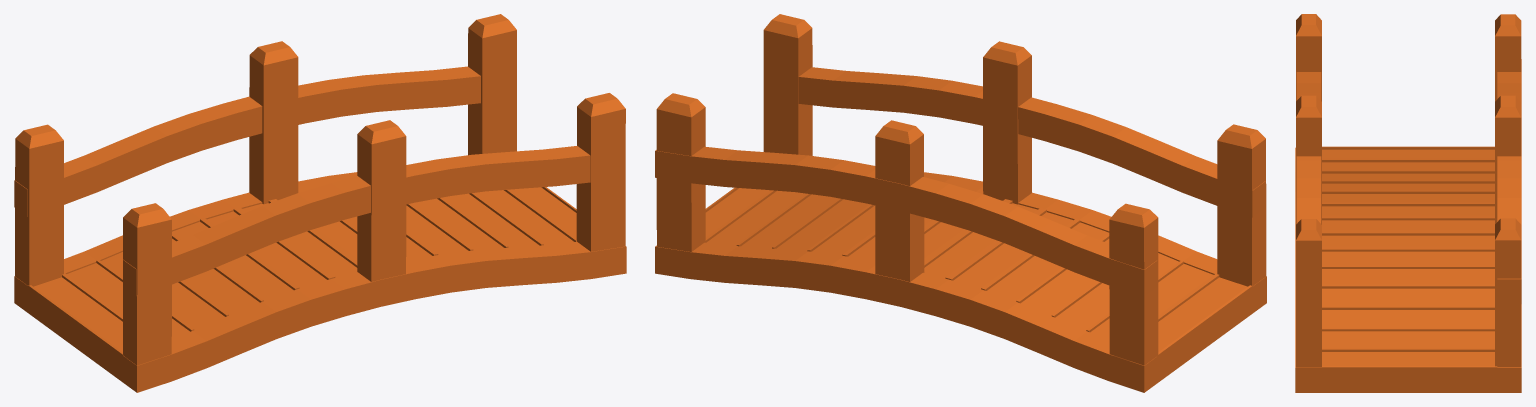
The model's file is bridge.fbx.
3 renders of one model, left to right at view 1: azimuth 30°, elevation 25°; view 2: azimuth 150°, elevation 25°; view 3: azimuth 270°, elevation 25°, orthographic. The views are drawn at different scales.
Parts seen in each view (by area): view 1: bridge; view 2: bridge; view 3: bridge.
Boxes of the visible parts, left/top/right/bottom form: bridge: left=14, top=14, right=626, bottom=392; bridge: left=655, top=14, right=1266, bottom=392; bridge: left=1295, top=14, right=1521, bottom=392.
Size of the model in its own units: 6729 by 2630 by 2921.
